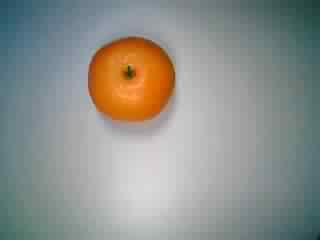orange: (82, 32, 180, 130)
